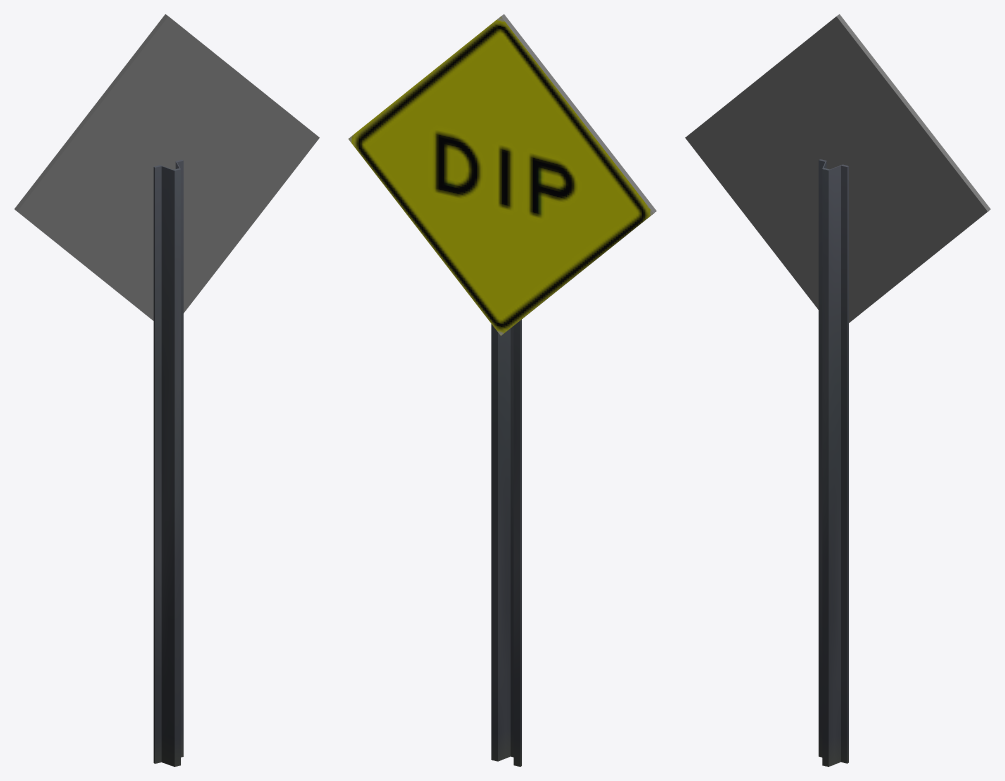
Rendered from warning_dip.obj.
3 renders of one model, left to right at view 1: azimuth 30°, elevation 25°; view 2: azimuth 150°, elevation 25°; view 3: azimuth 330°, elevation 25°, orthographic.
Visible parts, largest first — view 1: Mesh; view 2: Mesh; view 3: Mesh.
Boxes of the visible parts, left/top/right/bottom form: Mesh: left=14, top=14, right=319, bottom=766; Mesh: left=348, top=14, right=656, bottom=766; Mesh: left=685, top=14, right=990, bottom=766.
Size of the model in its own units: 0.2382 by 0.5585 by 0.0181.
